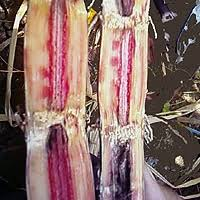Red-Rot: (25, 1, 95, 200), (96, 0, 151, 200)
